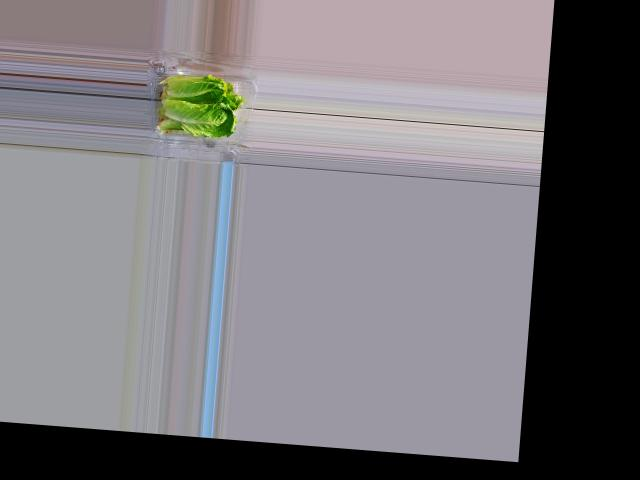lettuce: (159, 72, 244, 140)
